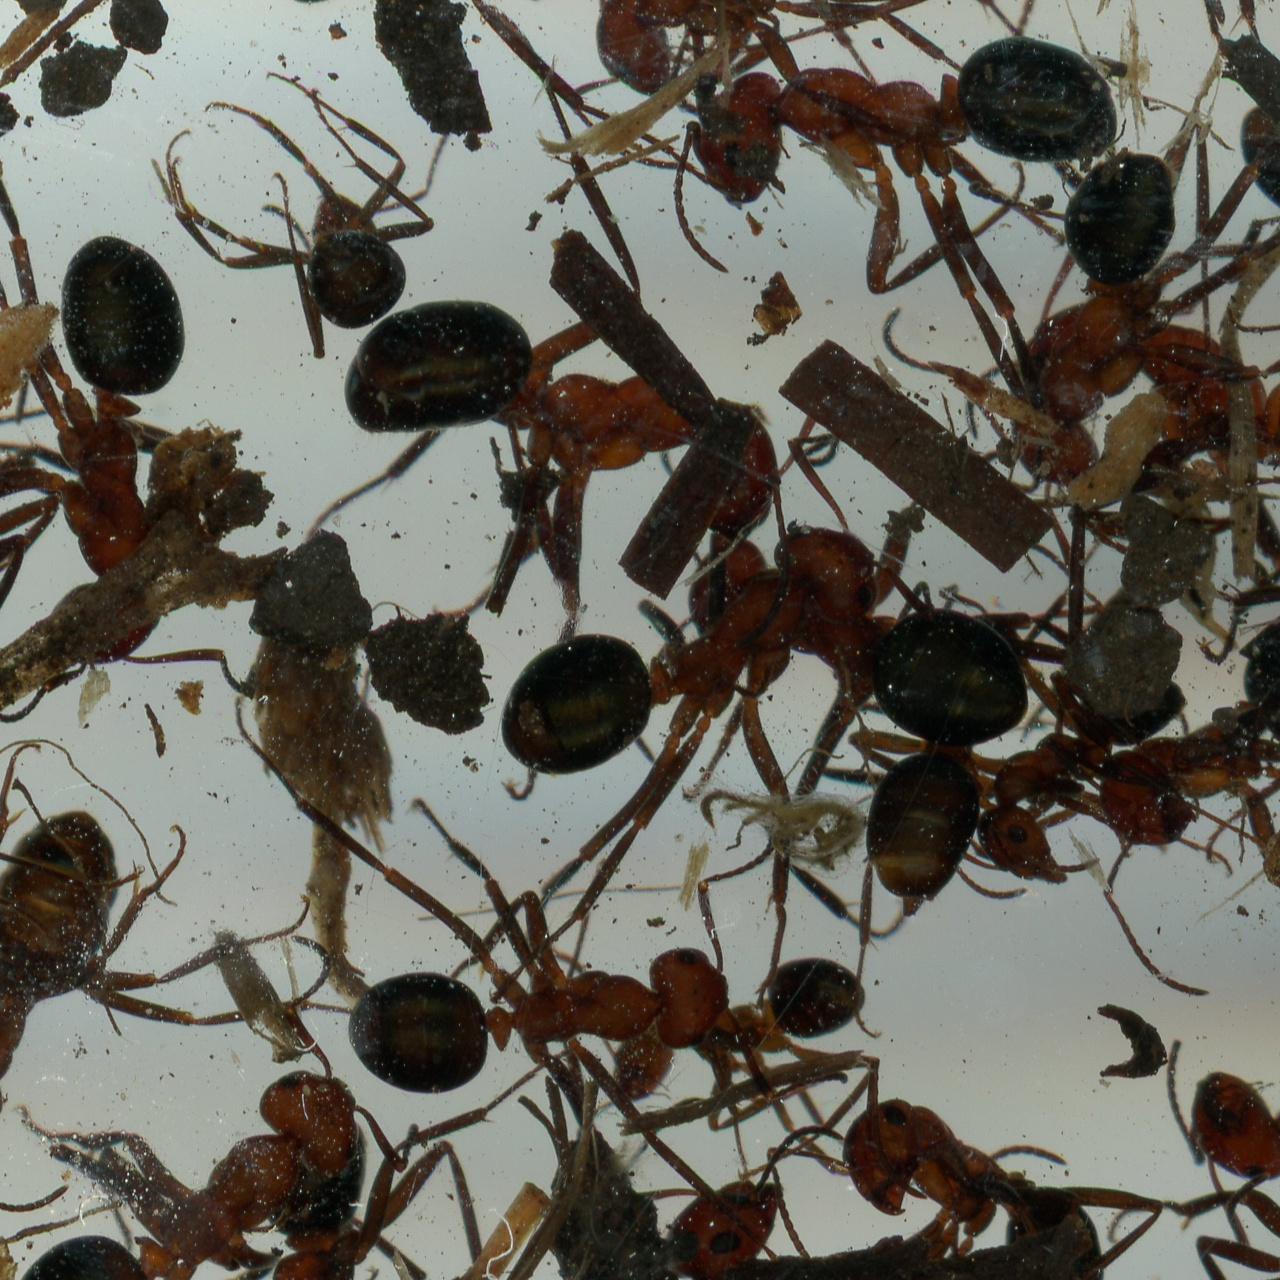arthropod: (467, 442, 901, 958), (0, 675, 325, 1275), (0, 931, 428, 1280), (288, 776, 731, 1113), (291, 289, 711, 627), (0, 183, 257, 733), (1020, 560, 1280, 1027), (668, 33, 1127, 297), (868, 142, 1198, 502), (959, 282, 1280, 587), (924, 601, 1200, 942), (148, 77, 447, 367), (820, 592, 1059, 940), (844, 1057, 1144, 1280), (601, 948, 878, 1157), (1148, 854, 1280, 1238), (563, 0, 950, 109), (594, 1138, 863, 1280), (150, 1132, 369, 1280), (1117, 1123, 1280, 1280), (252, 0, 681, 58), (1197, 433, 1280, 729), (0, 254, 50, 713)
